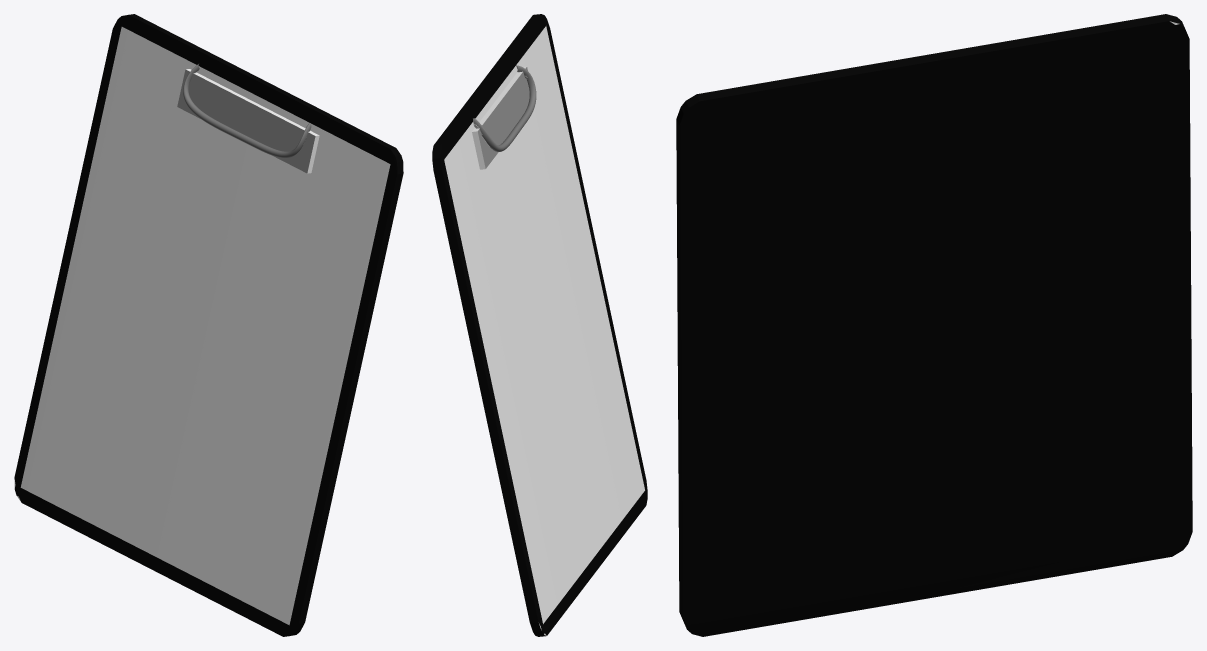
File: remodeled hand with clip board (textured).fbx
3 renders of one model, left to right at view 1: azimuth 30°, elevation 25°; view 2: azimuth 150°, elevation 25°; view 3: azimuth 270°, elevation 25°, orthographic. The views are drawn at different scales.
Parts seen in each view (by area): view 1: ac.001; view 2: ac.001; view 3: ac.001.
Boxes of the visible parts, box(x1,y1,x2,y2) form: ac.001: box(14, 14, 403, 636); ac.001: box(432, 14, 647, 636); ac.001: box(676, 14, 1192, 636).
Bounding box in the file's own units: 24.7 × 58.56 × 43.24.
4 materials, 4 textured.
